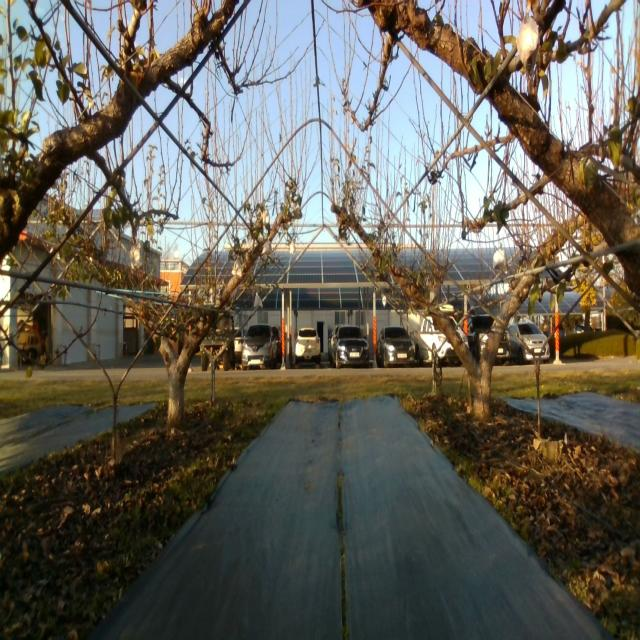pearbags: (516, 15, 540, 76), (130, 240, 145, 268), (494, 249, 508, 273), (232, 258, 242, 276)
